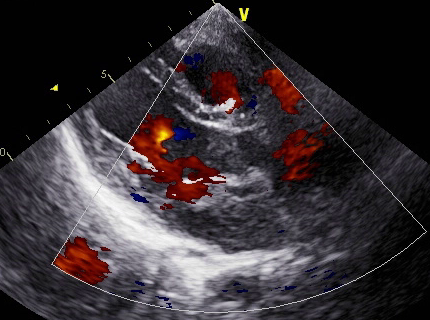AR: (152, 117, 221, 178)
